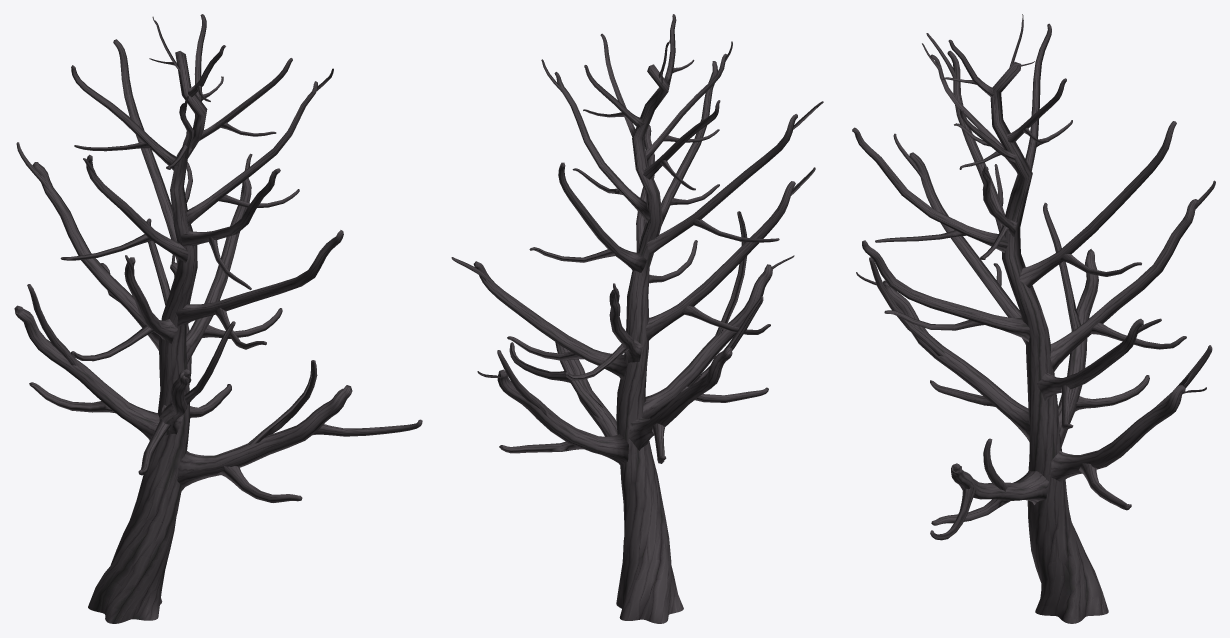
The model's file is dead_tree_2.gltf.
3 renders of one model, left to right at view 1: azimuth 30°, elevation 25°; view 2: azimuth 150°, elevation 25°; view 3: azimuth 270°, elevation 25°, orthographic. The views are drawn at different scales.
Parts seen in each view (by area): view 1: dead_tree_2; view 2: dead_tree_2; view 3: dead_tree_2.
Boxes of the visible parts, x1,y1,x2,y2 form: dead_tree_2: (14, 14, 422, 623); dead_tree_2: (451, 14, 823, 623); dead_tree_2: (852, 14, 1215, 623).
Size of the model in its own units: 6.73 by 11.49 by 6.38.
1 material, 1 textured.
